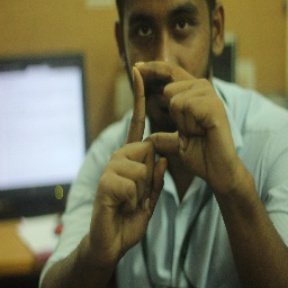D: (115, 56, 219, 177)
